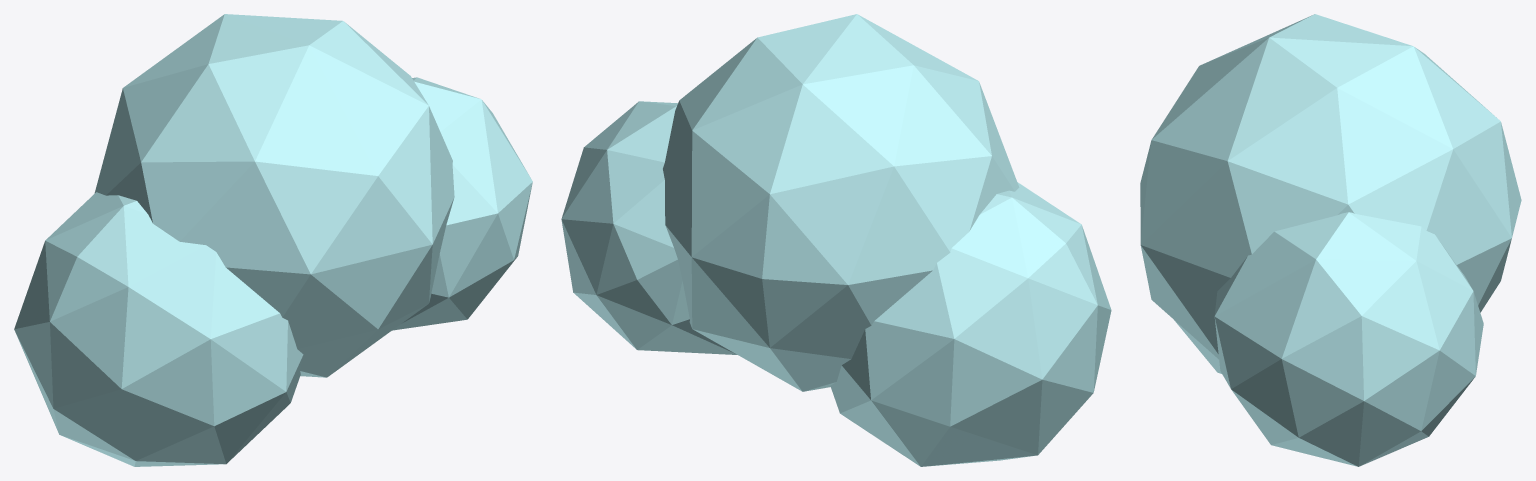
The model's file is cloud2_00008.fbx.
The picture shows the model from 3 angles, left to right: view 1: azimuth 30°, elevation 25°; view 2: azimuth 150°, elevation 25°; view 3: azimuth 270°, elevation 25°; orthographic projection. The views are drawn at different scales.
Parts seen in each view (by area): view 1: cloud2; view 2: cloud2; view 3: cloud2.
Part boxes in pixels (x1=…): cloud2: x1=14, y1=14, x2=532, y2=466; cloud2: x1=561, y1=14, x2=1111, y2=466; cloud2: x1=1140, y1=14, x2=1521, y2=466.
Size of the model in its own units: 441 by 337 by 283.
